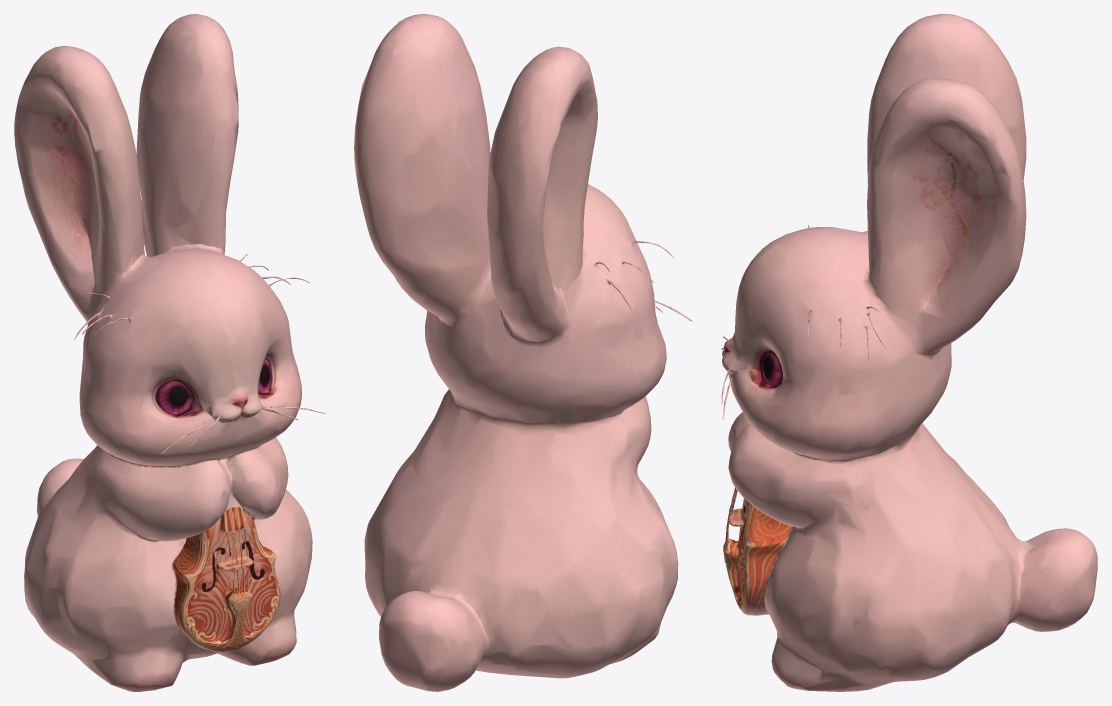
3 renders of one model, left to right at view 1: azimuth 30°, elevation 25°; view 2: azimuth 150°, elevation 25°; view 3: azimuth 270°, elevation 25°, orthographic. The views are drawn at different scales.
Parts seen in each view (by area): view 1: Mesh_0; view 2: Mesh_0; view 3: Mesh_0.
Part boxes in pixels (left/top/right/bottom): Mesh_0: left=14, top=14, right=325, bottom=691; Mesh_0: left=354, top=14, right=692, bottom=691; Mesh_0: left=721, top=14, right=1097, bottom=691.
Bounding box in the file's own units: 0.8722 × 1.9 × 1.07.
1 material, 1 textured.
